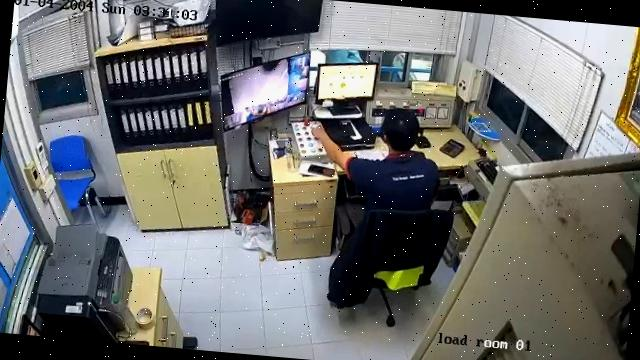Head: (381, 109, 419, 151)
People: (313, 109, 439, 210)
Phone: (308, 164, 334, 176)
